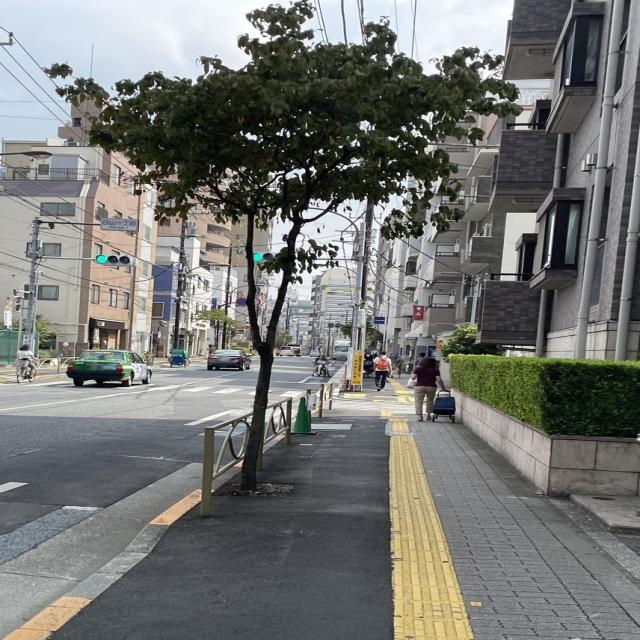dogwood: (40, 0, 525, 491)
